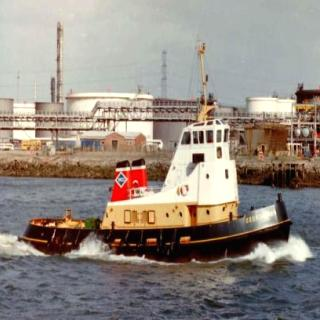Tug Boat: (38, 56, 302, 259)
